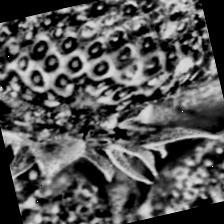Powdery Mildew Fruit: (0, 0, 224, 155), (113, 130, 224, 223), (6, 132, 114, 224)
